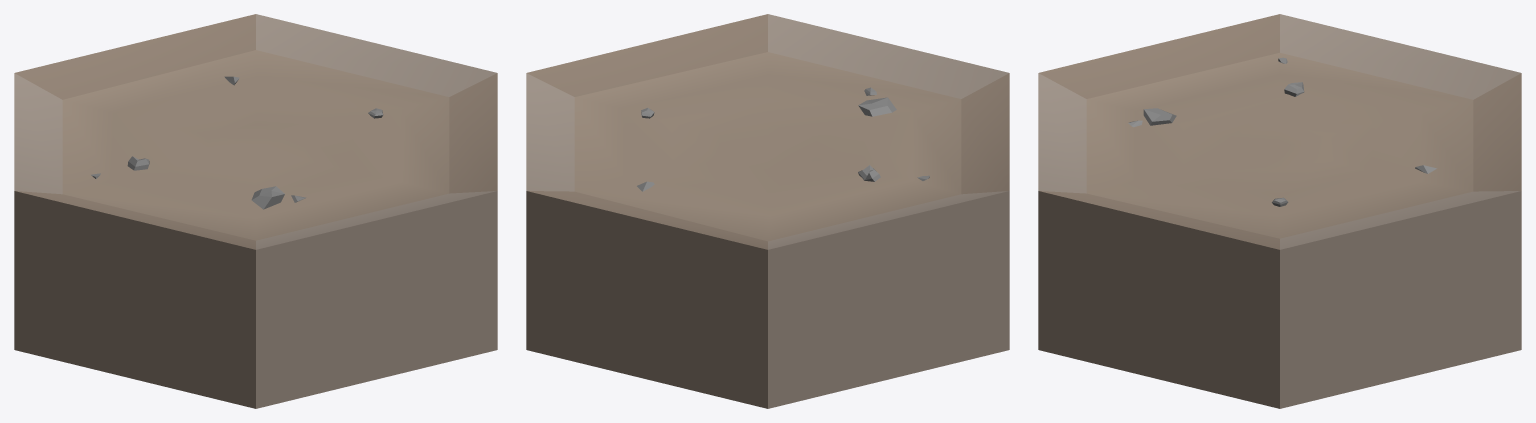
Rendered from dirt.fbx.
The picture shows the model from 3 angles, left to right: view 1: azimuth 30°, elevation 25°; view 2: azimuth 150°, elevation 25°; view 3: azimuth 270°, elevation 25°; orthographic projection.
Parts seen in each view (by area): view 1: pCylinder1, pSphere3; view 2: pCylinder1, pSphere3; view 3: pCylinder1, pSphere3.
Part boxes in pixels (x1,y1,x2,y2): pCylinder1: (14,14,497,408); pSphere3: (251,186,284,209); pCylinder1: (526,14,1009,408); pSphere3: (858,97,896,116); pCylinder1: (1038,14,1521,408); pSphere3: (1143,108,1176,125).
Bounding box in the file's own units: 2 × 0.6289 × 1.73.
